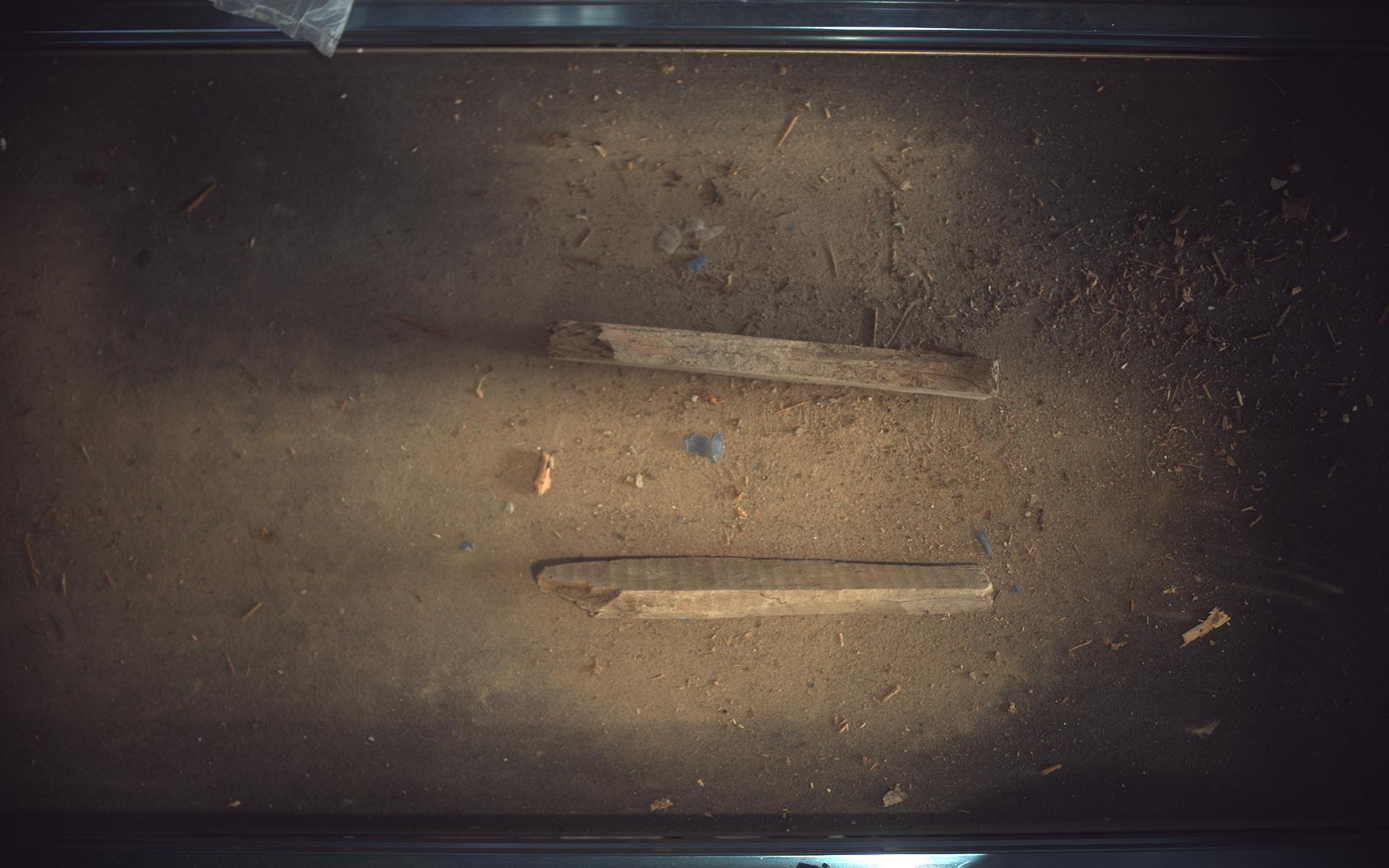wood: (549, 320, 1001, 399), (537, 558, 996, 620)
